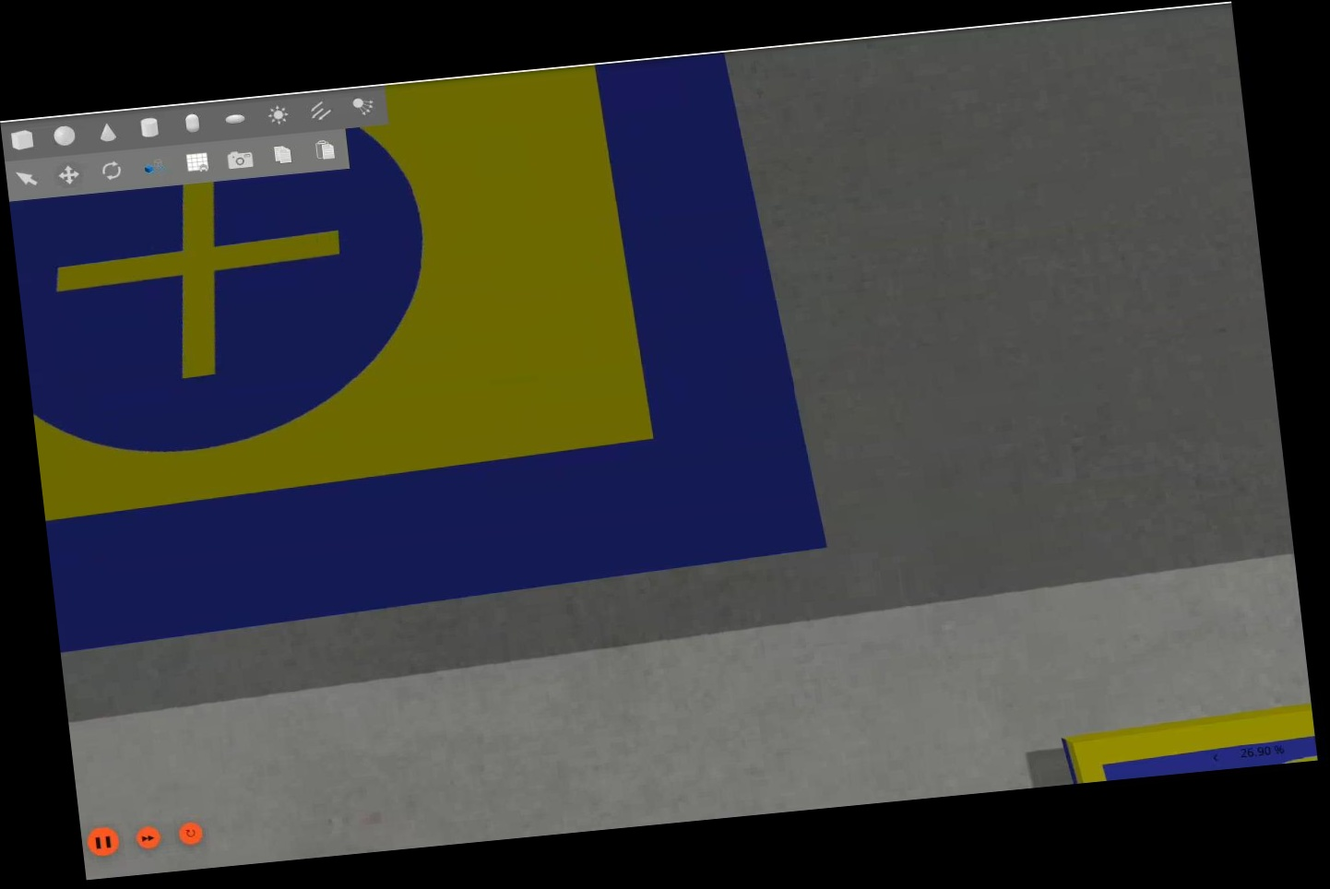large_base: (0, 48, 836, 652)
